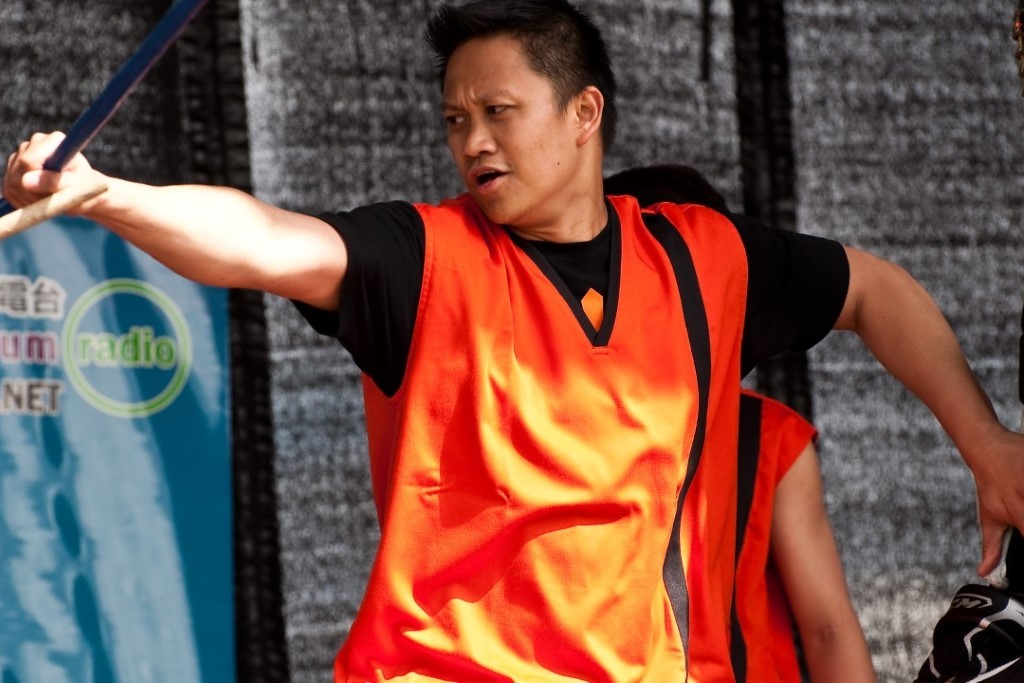baston_e: (23, 7, 177, 207)
